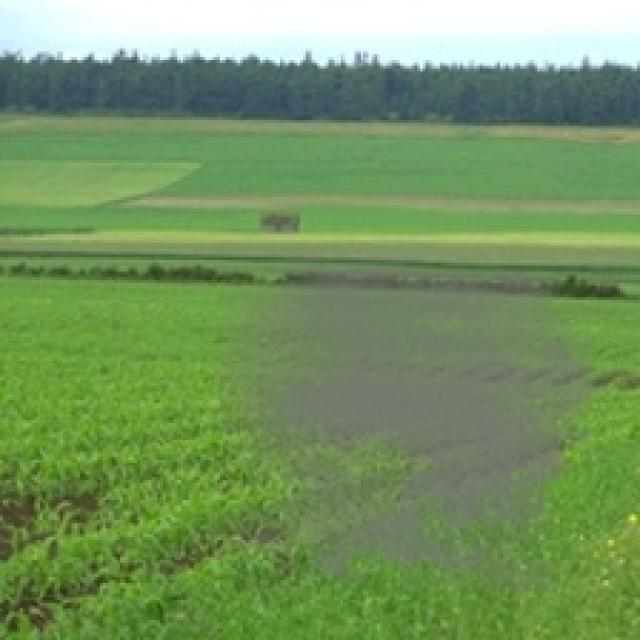smoke: (217, 249, 623, 594)
